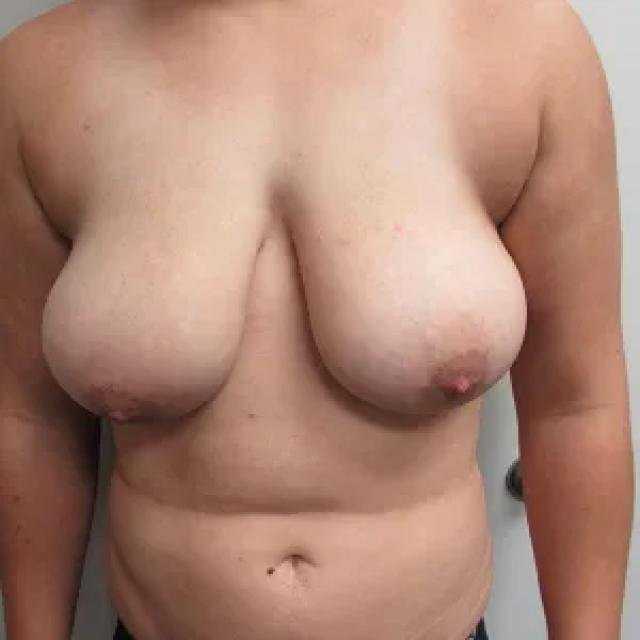Seno ileso: (280, 159, 536, 435), (33, 162, 272, 445)
